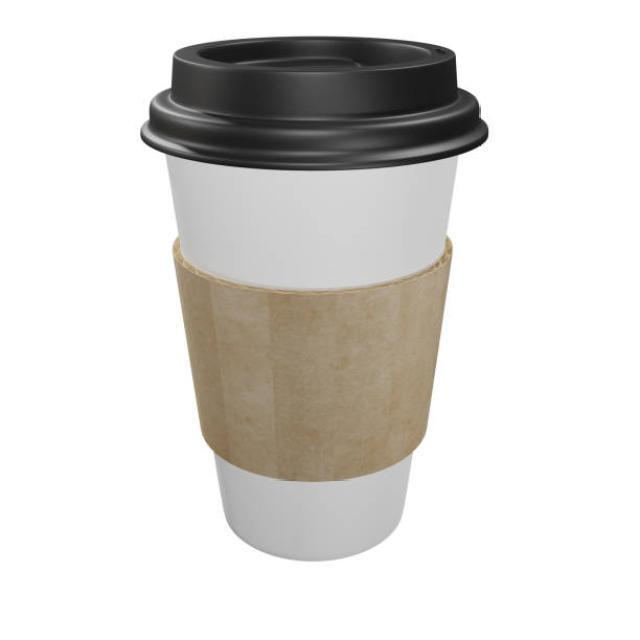cup: (134, 38, 500, 562)
